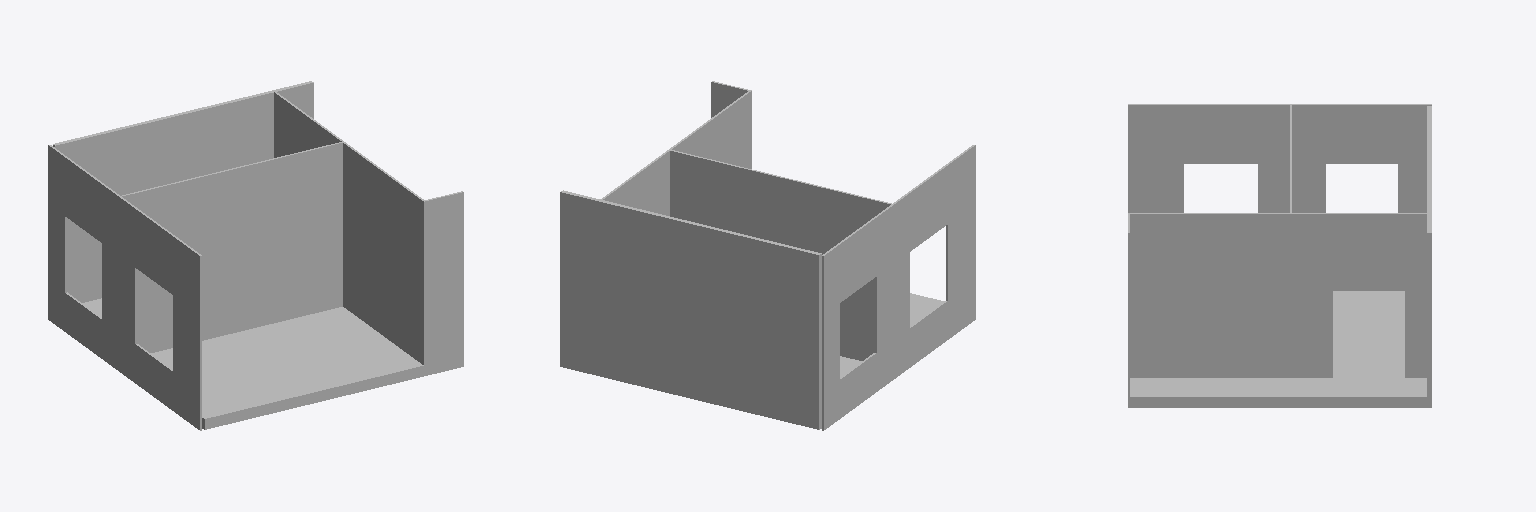
File: 4x2 third (des)-0.obj
3 renders of one model, left to right at view 1: azimuth 30°, elevation 25°; view 2: azimuth 150°, elevation 25°; view 3: azimuth 270°, elevation 25°, orthographic.
Parts seen in each view (by area): view 1: 4x2 third (des)-0; view 2: 4x2 third (des)-0; view 3: 4x2 third (des)-0.
Boxes of the visible parts, box(x1,y1,x2,y2) form: 4x2 third (des)-0: box(48, 81, 463, 430); 4x2 third (des)-0: box(560, 81, 975, 430); 4x2 third (des)-0: box(1128, 104, 1431, 407).
Bounding box in the file's own units: 126 × 80 × 126.